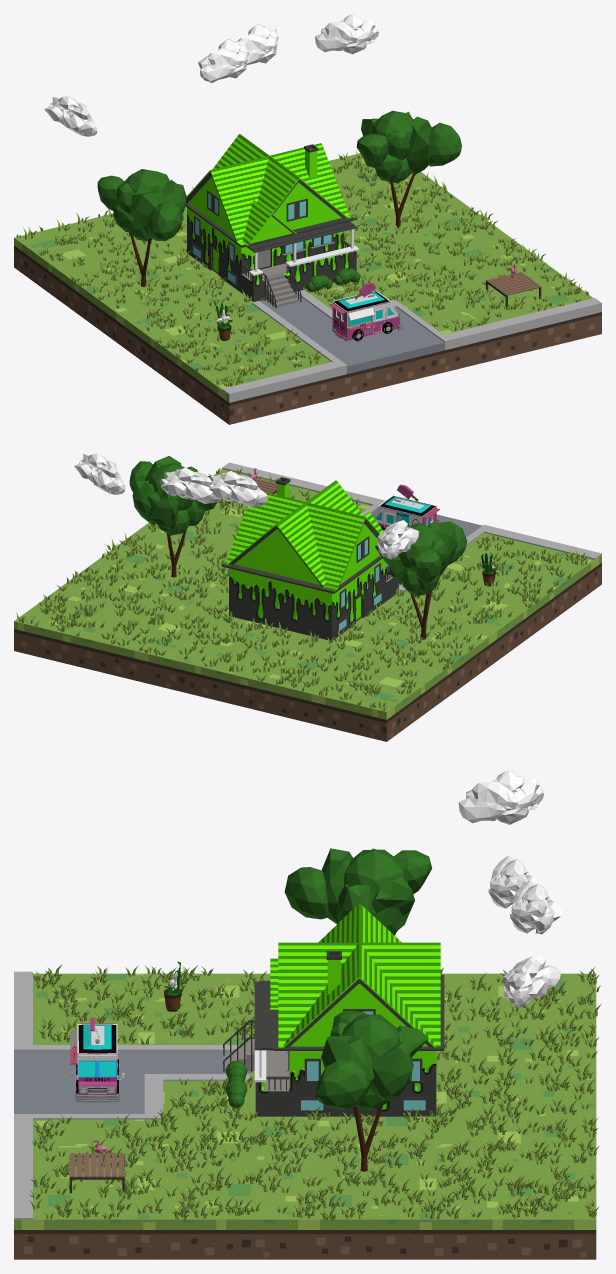
3 views of the same model, one above another, from view 1: azimuth 30°, elevation 25°; view 2: azimuth 150°, elevation 25°; view 3: azimuth 270°, elevation 25° (orthographic). The views are drawn at different scales.
Parts seen in each view (by area): view 1: Cube.006, Cube.754, Circle.012_Grass_0.192, Cube.007, tree, tree.001, VEHICLES_ICE_CREAM_TRUCK, Cube.009; view 2: Cube.006, Cube.754, Circle.012_Grass_0.192, Cube.007, tree.001, tree, VEHICLES_ICE_CREAM_TRUCK; view 3: Cube.006, Circle.012_Grass_0.192, Cube.754, tree, Cube.007, tree.001, VEHICLES_ICE_CREAM_TRUCK, Cube.009.
Boxes of the visible parts, x1,y1,x2,y2 form: Cube.006: (14,153,601,424); Cube.754: (185,134,359,308); Circle.012_Grass_0.192: (16,150,588,386); Cube.007: (44,14,378,136); tree: (356,110,461,228); tree.001: (97,169,186,286); VEHICLES_ICE_CREAM_TRUCK: (329,282,403,341); Cube.009: (486,272,541,306); Cube.006: (14,462,601,741); Cube.754: (221,477,398,640); Circle.012_Grass_0.192: (16,468,588,711); Cube.007: (74,453,418,559); tree.001: (375,521,467,639); tree: (129,456,216,577); VEHICLES_ICE_CREAM_TRUCK: (372,484,440,530); Cube.006: (14,971,596,1259); Circle.012_Grass_0.192: (29,964,601,1220); Cube.754: (223,903,444,1116); tree: (315,1010,428,1171); Cube.007: (458,770,561,1007); tree.001: (284,848,432,935); VEHICLES_ICE_CREAM_TRUCK: (70,1017,124,1102); Cube.009: (69,1153,124,1193).
Size of the model in its own units: 4071 by 2176 by 4040.
Materials: 48 (4 with a texture image).
